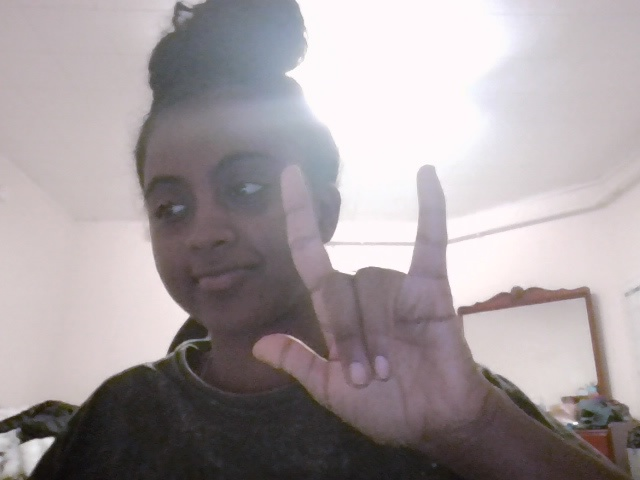ILoveYou: (254, 164, 487, 459)
